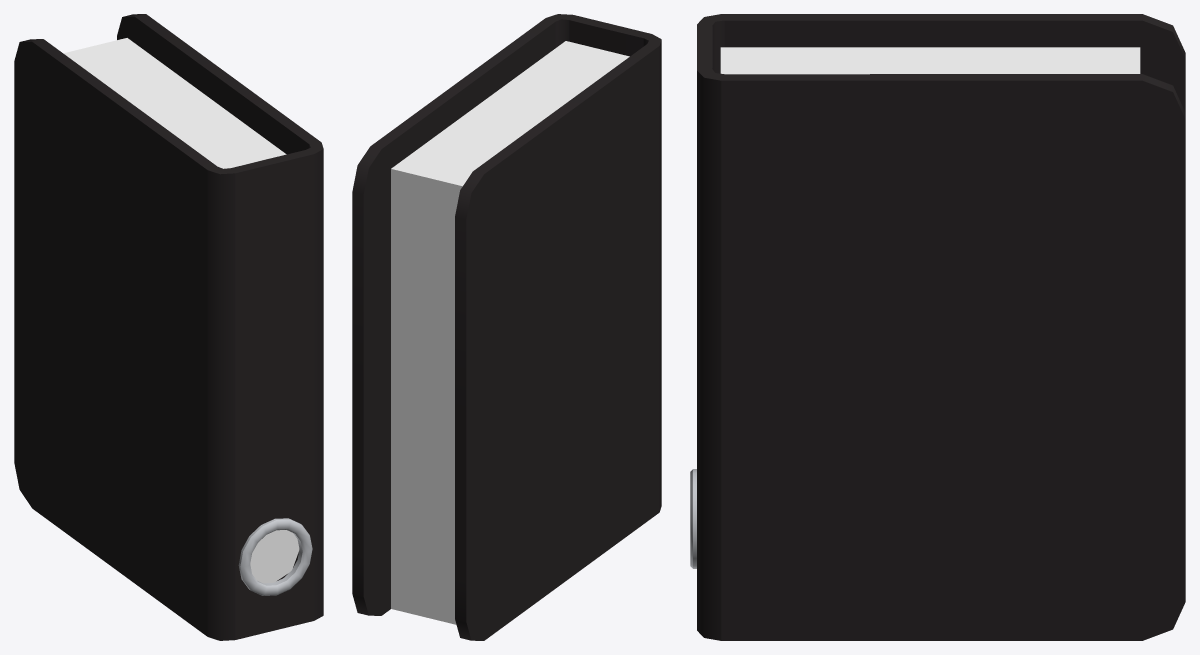
The model's file is Folder_3.fbx.
3 renders of one model, left to right at view 1: azimuth 30°, elevation 25°; view 2: azimuth 150°, elevation 25°; view 3: azimuth 270°, elevation 25°, orthographic. The views are drawn at different scales.
Parts seen in each view (by area): view 1: Folder_3; view 2: Folder_3; view 3: Folder_3.
Part boxes in pixels (x1,y1,x2,y2): Folder_3: (14, 14, 323, 640); Folder_3: (352, 14, 661, 640); Folder_3: (690, 14, 1185, 640).
Size of the model in its own units: 0.1004 by 0.3932 by 0.3152.
